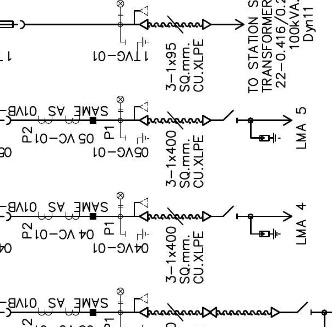22_ds_la_out: (222, 205, 293, 240), (223, 109, 293, 144)
22_gs: (124, 37, 149, 52), (124, 228, 149, 241), (124, 133, 149, 145)
22_ll: (116, 191, 124, 209), (116, 95, 124, 113), (116, 287, 124, 304)
terminator_single: (201, 114, 212, 127), (201, 210, 212, 223), (201, 18, 212, 30), (270, 306, 280, 318)
terminator_splicing_kits: (202, 307, 217, 318)
terminator_w_future: (133, 292, 149, 318), (133, 196, 149, 222), (133, 101, 149, 127), (133, 5, 149, 31)
